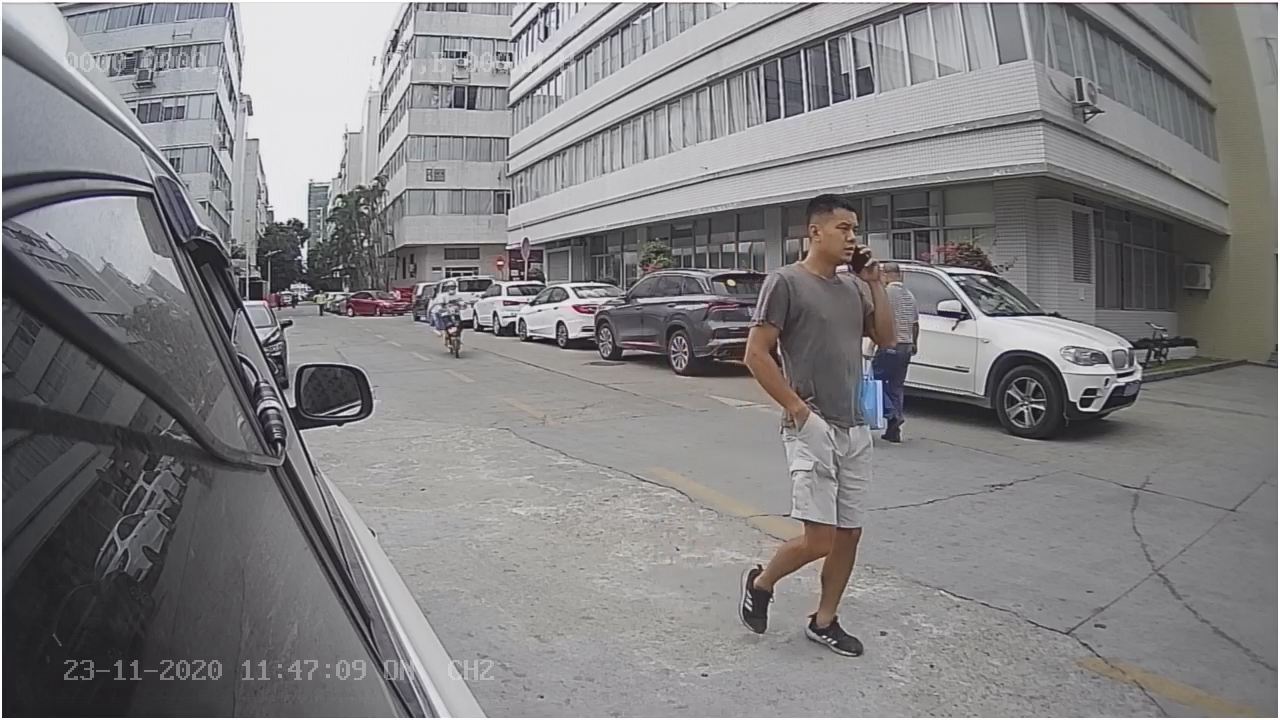person: (730, 183, 893, 666)
